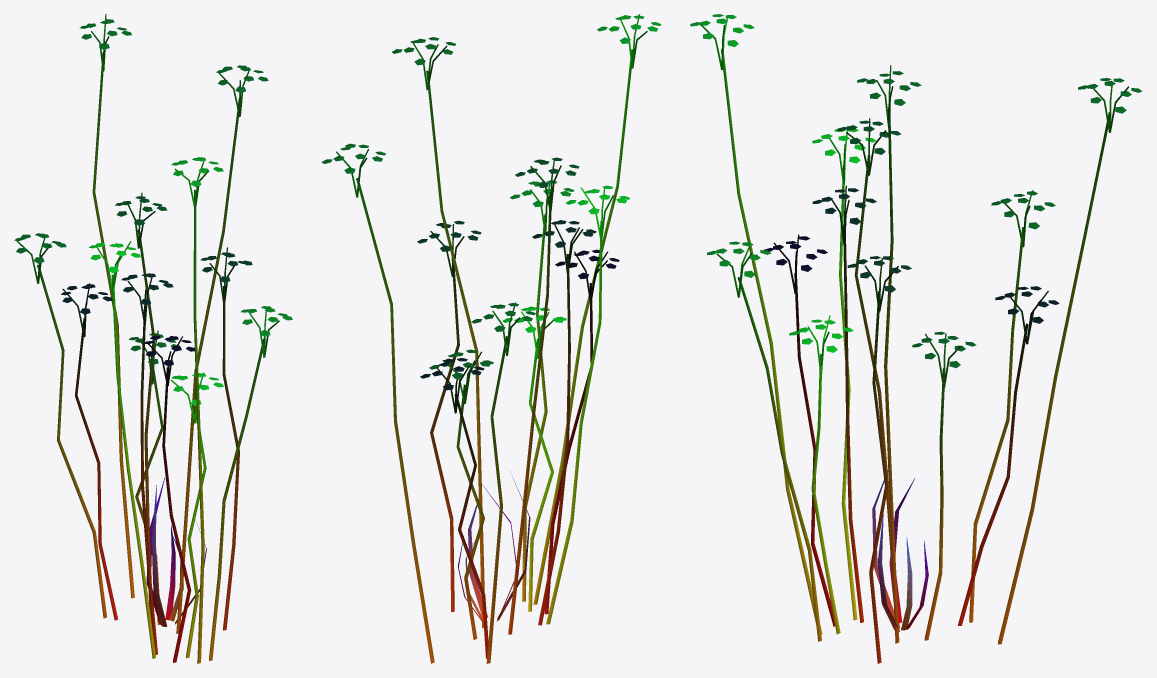
The model's file is SM_Flower_Yarrow_C_LOD2.fbx.
The picture shows the model from 3 angles, left to right: view 1: azimuth 30°, elevation 25°; view 2: azimuth 150°, elevation 25°; view 3: azimuth 270°, elevation 25°; orthographic projection. The views are drawn at different scales.
Visible parts, largest first — view 1: SM_Flower_Yarrow_C_LOD2; view 2: SM_Flower_Yarrow_C_LOD2; view 3: SM_Flower_Yarrow_C_LOD2.
Boxes of the visible parts, left/top/right/bottom form: SM_Flower_Yarrow_C_LOD2: left=14, top=14, right=292, bottom=663; SM_Flower_Yarrow_C_LOD2: left=321, top=14, right=661, bottom=663; SM_Flower_Yarrow_C_LOD2: left=690, top=14, right=1142, bottom=663.
Bounding box in the file's own units: 0.2288 × 0.6064 × 0.4154.
